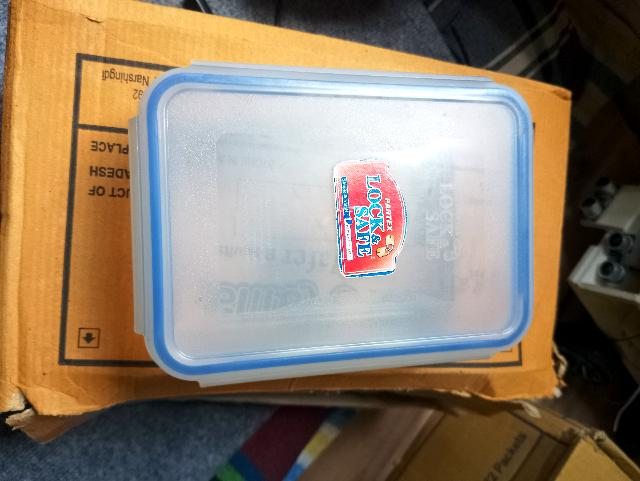hardplastic: (122, 57, 545, 377)
